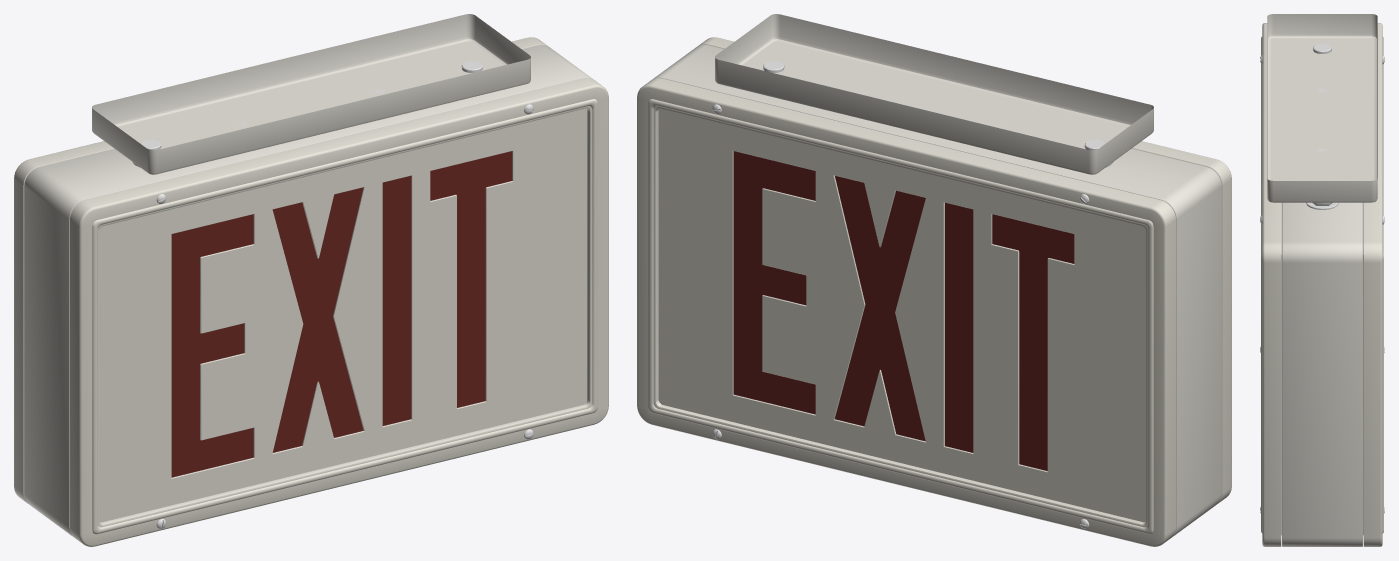
File: Kit_ExitSign_HangingFlush_Dead.fbx
The picture shows the model from 3 angles, left to right: view 1: azimuth 30°, elevation 25°; view 2: azimuth 150°, elevation 25°; view 3: azimuth 270°, elevation 25°; orthographic projection. The views are drawn at different scales.
Parts seen in each view (by area): view 1: Kit_ExitSign_HangingFlush_LOD0; view 2: Kit_ExitSign_HangingFlush_LOD0; view 3: Kit_ExitSign_HangingFlush_LOD0.
Part boxes in pixels (box(x1,y1,x2,y2)): Kit_ExitSign_HangingFlush_LOD0: box(14, 14, 608, 546); Kit_ExitSign_HangingFlush_LOD0: box(637, 14, 1231, 546); Kit_ExitSign_HangingFlush_LOD0: box(1260, 14, 1384, 546).
Size of what is drawn, in the model's own units: 0.346 by 0.237 by 0.0789.
